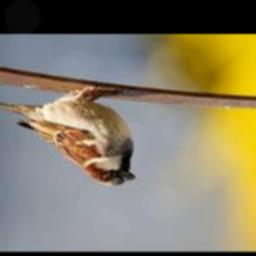Sparrow: (0, 85, 137, 186)
